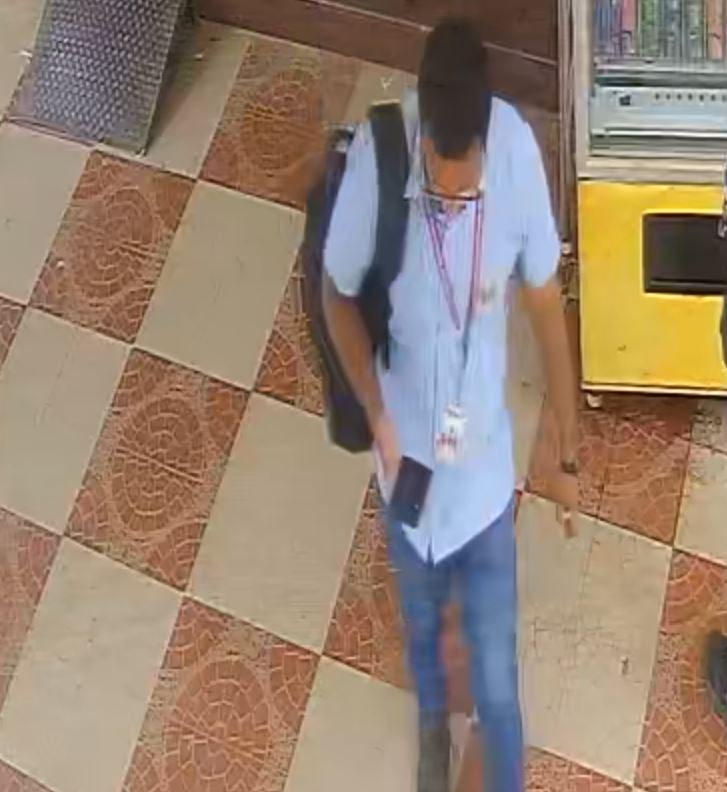intruder: (297, 17, 605, 792)
